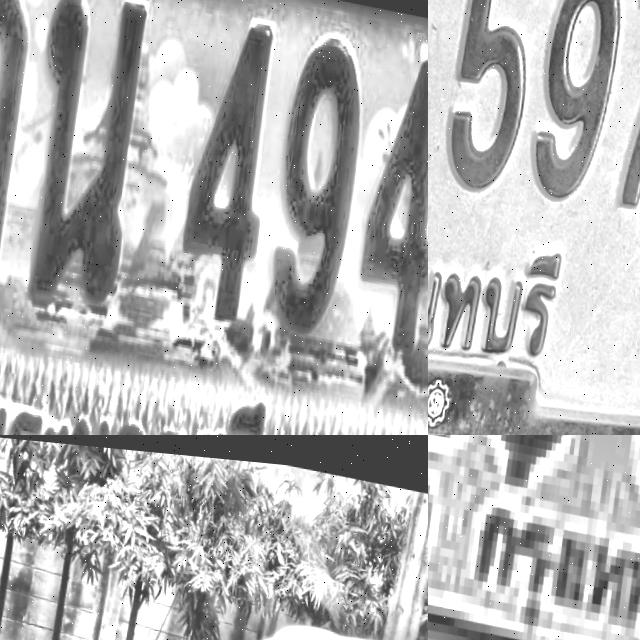license-plate: (0, 0, 428, 435), (428, 0, 640, 435), (428, 435, 640, 640)
